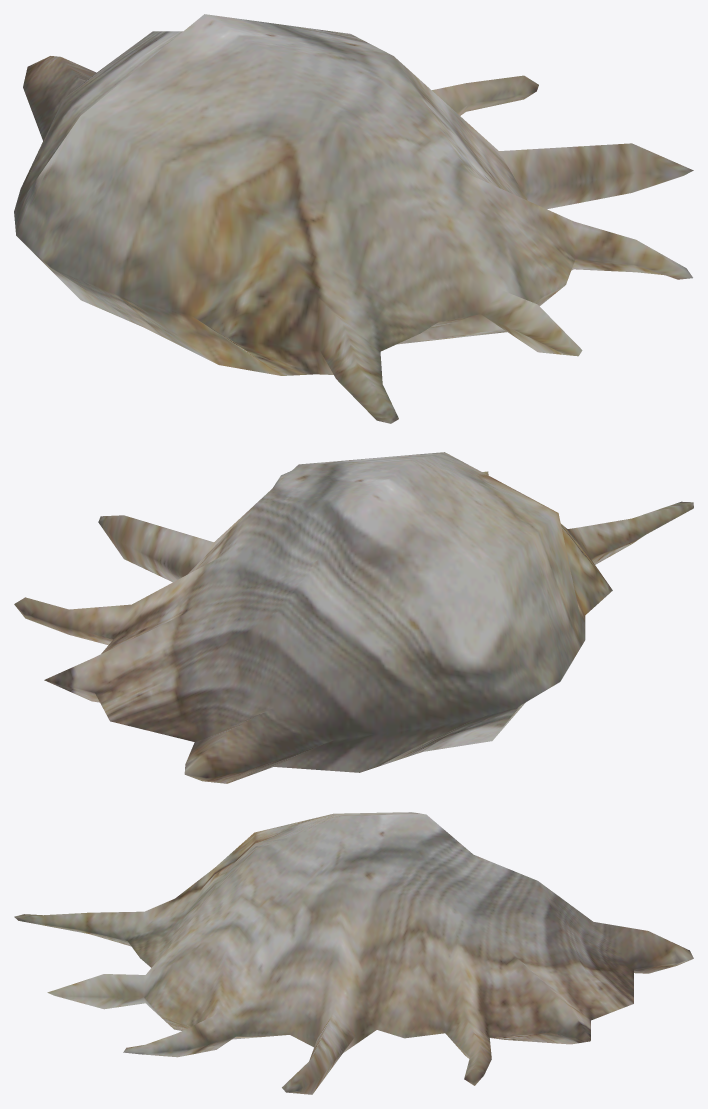
The model's file is SeaShell-07_LOD0_Small.glb.
3 renders of one model, top to bottom at view 1: azimuth 30°, elevation 25°; view 2: azimuth 150°, elevation 25°; view 3: azimuth 270°, elevation 25°, orthographic. The views are drawn at different scales.
Visible parts, largest first — view 1: SeaShell-07_high; view 2: SeaShell-07_high; view 3: SeaShell-07_high.
Part boxes in pixels (x1,y1,x2,y2): SeaShell-07_high: (14, 14, 693, 423); SeaShell-07_high: (14, 452, 693, 783); SeaShell-07_high: (14, 812, 693, 1094).
Bounding box in the file's own units: 0.0198 × 0.00803 × 0.027.
1 material, 1 textured.
